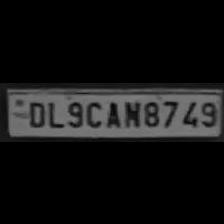4: (178, 97, 200, 127)
7: (160, 97, 178, 127)
8: (140, 97, 160, 127)
9: (63, 97, 83, 127), (198, 97, 218, 127)
A: (102, 98, 122, 128)
C: (83, 97, 103, 127)
D: (24, 97, 46, 127)
L: (46, 97, 62, 127)
N: (120, 96, 140, 128)
